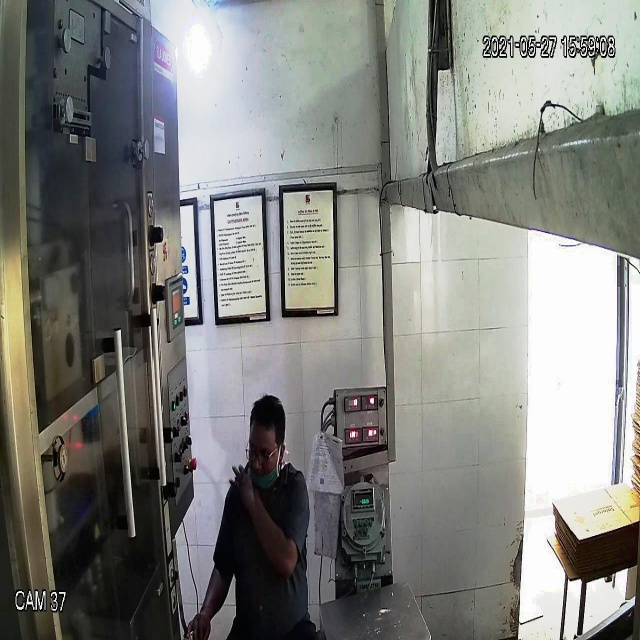Gafas: (245, 437, 289, 468)
